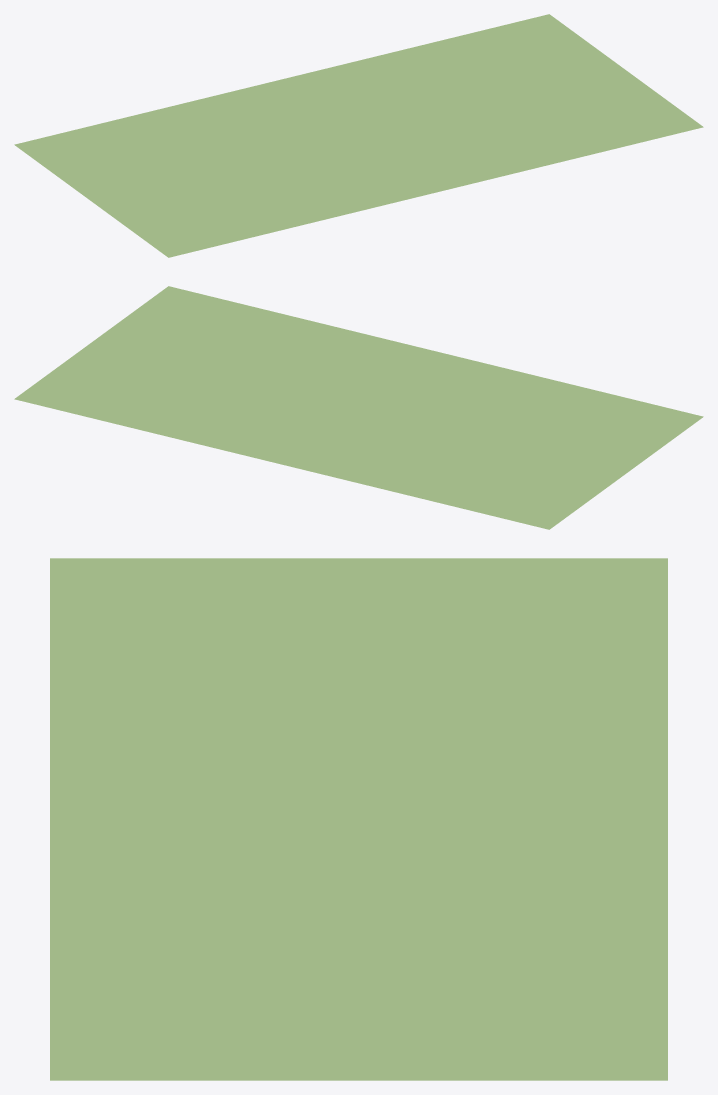
The model's file is terrain_grass.glb.
3 renders of one model, top to bottom at view 1: azimuth 30°, elevation 25°; view 2: azimuth 150°, elevation 25°; view 3: azimuth 270°, elevation 25°, orthographic. The views are drawn at different scales.
Parts seen in each view (by area): view 1: tile_-1_-1_lod0, tile_0_-1_lod0; view 2: tile_-1_-1_lod0, tile_0_-1_lod0; view 3: tile_-1_-1_lod0, tile_0_-1_lod0.
Part boxes in pixels (x1,y1,x2,y2): tile_-1_-1_lod0: (14, 79, 435, 257); tile_0_-1_lod0: (282, 14, 703, 192); tile_-1_-1_lod0: (282, 351, 703, 529); tile_0_-1_lod0: (14, 286, 435, 464); tile_-1_-1_lod0: (50, 558, 667, 819); tile_0_-1_lod0: (50, 819, 667, 1080).
Size of what is drawn, in the model's own units: 32 by 0 by 16.
